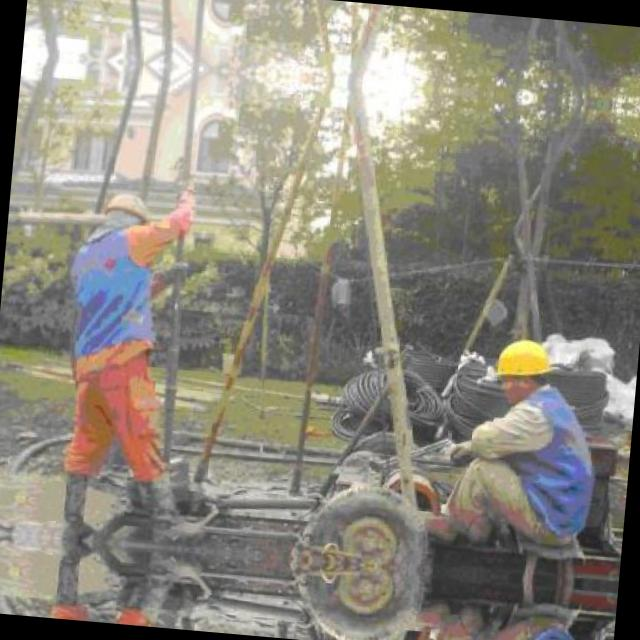helmet: (486, 330, 556, 403), (97, 190, 148, 238)
